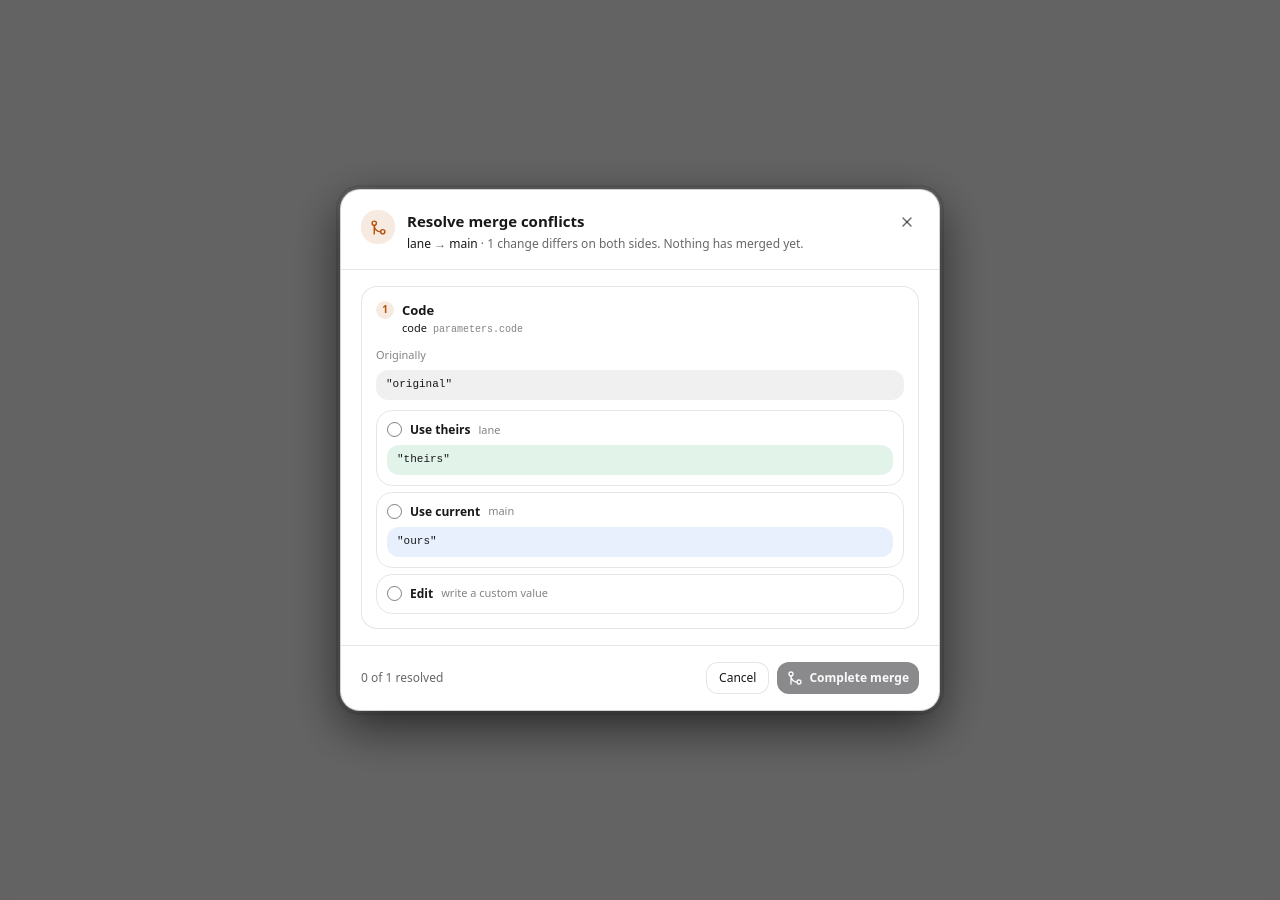
Test: ConflictResolver › does not report a merge when the server still returns conflicts
The image size is (1280, 900).
What coordinates should you click on to do the following:
click the radio button labelled "Use theirs lane \"theirs\""
I would click on:
 (640, 448)
Its box is [376, 410, 904, 486].
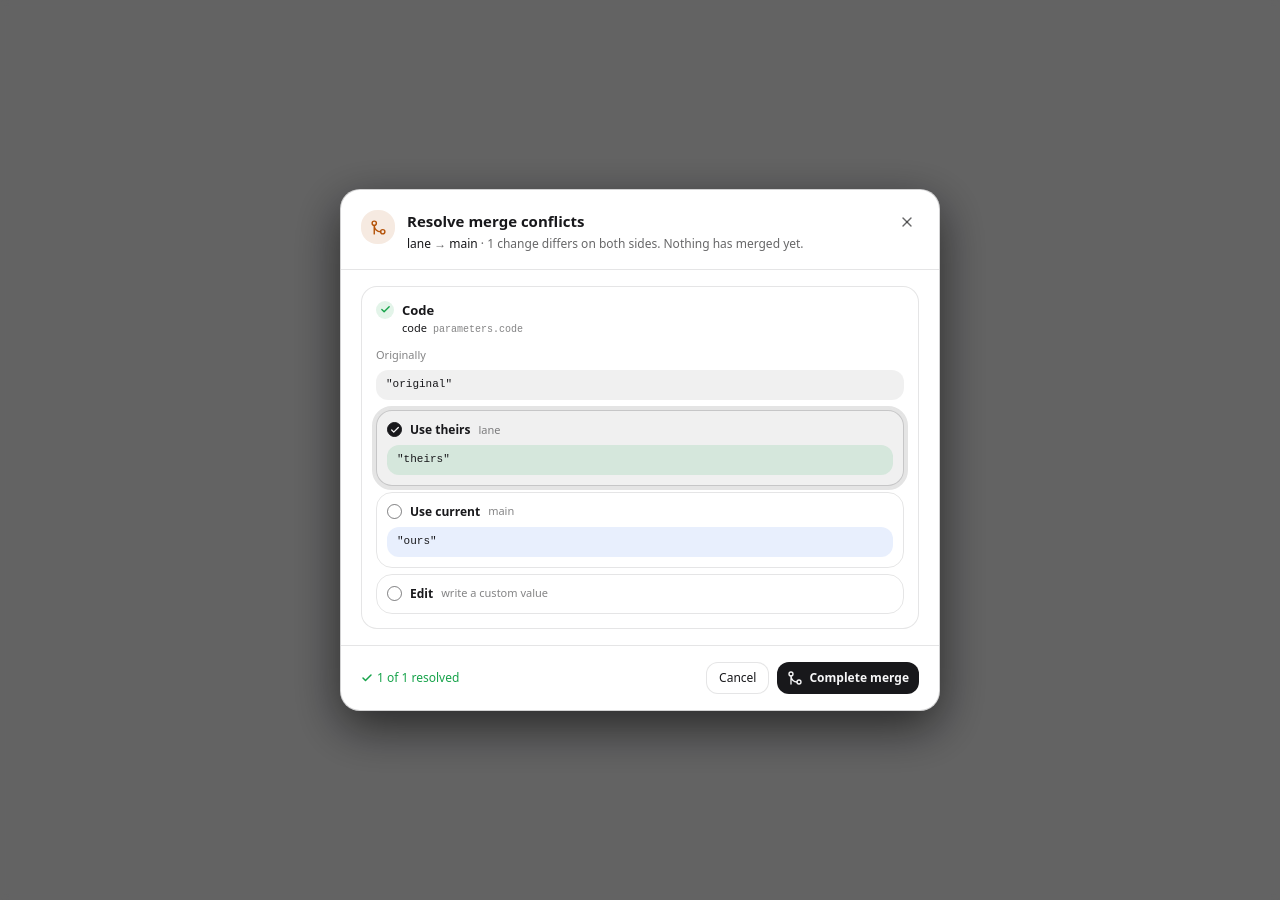
What coordinates should you click on to do the following:
click the button "Complete merge"
I would click on:
 (848, 678)
Its box is [778, 662, 919, 694].
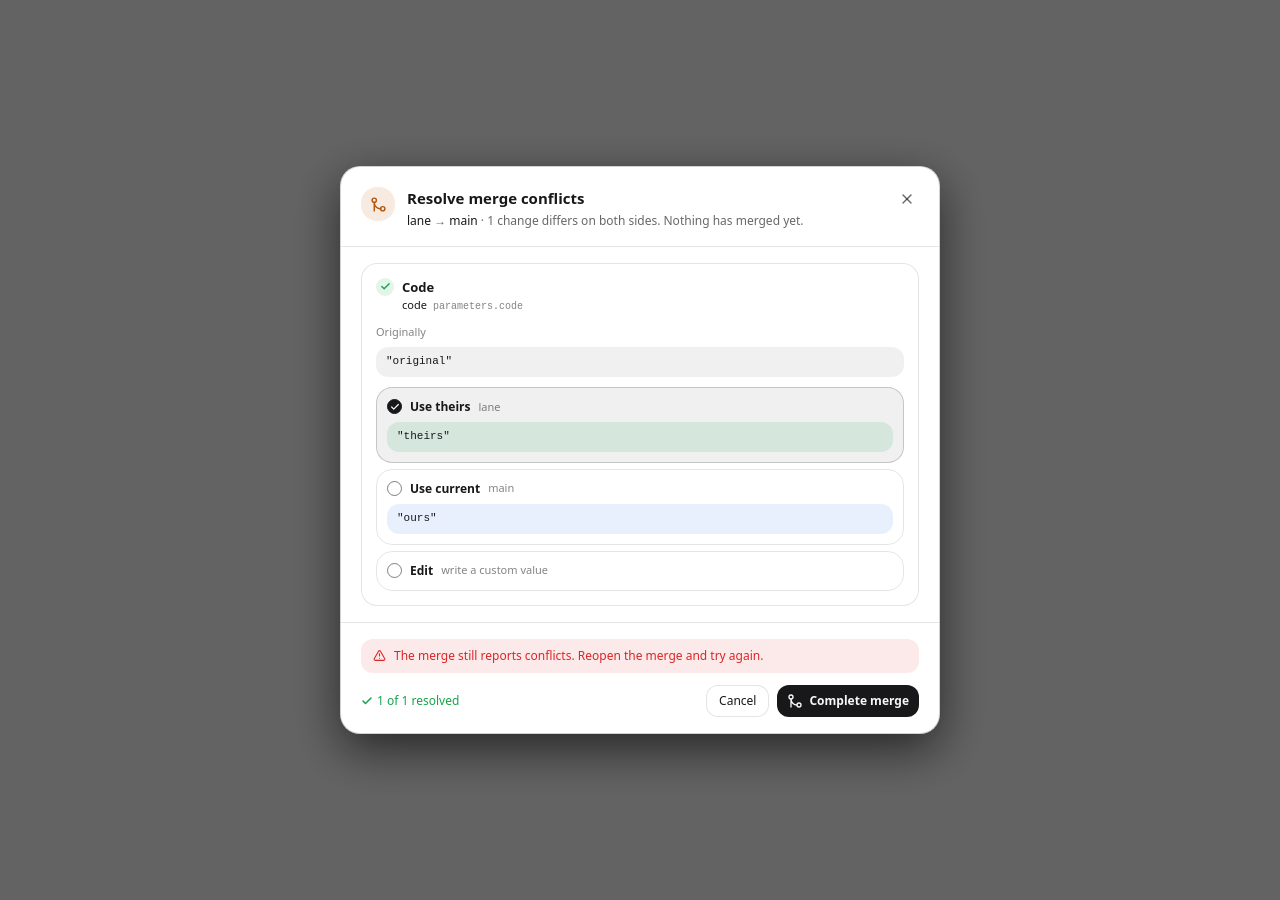
Check: the text "still reports conflicts" is shown, box [394, 647, 763, 664]
